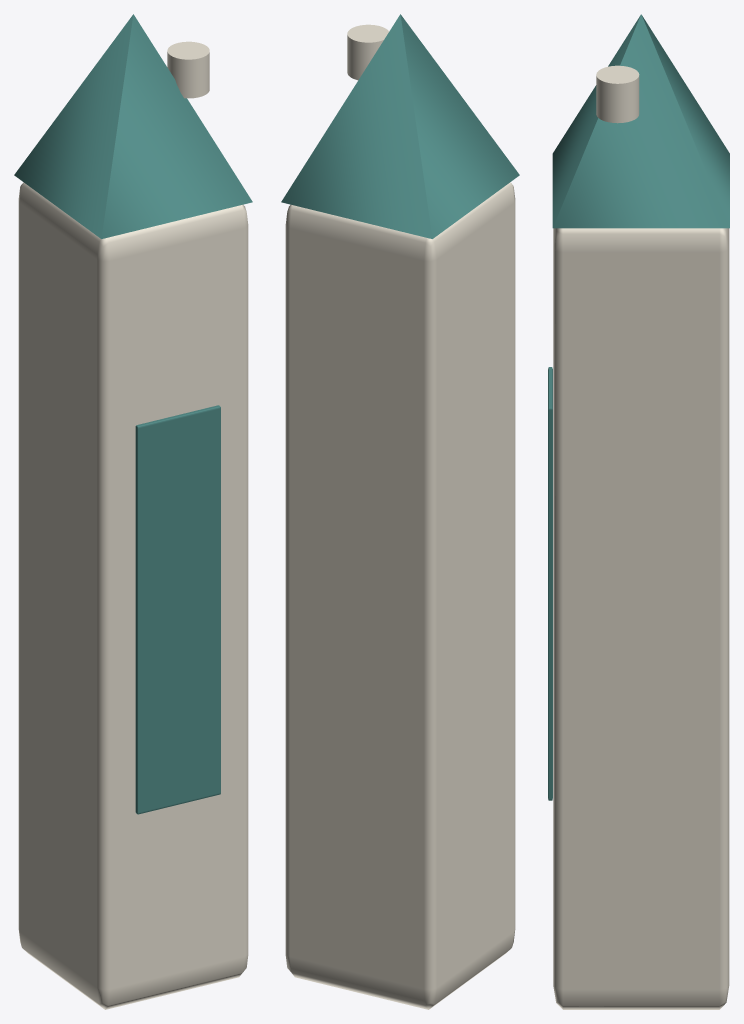
File: wp-brique-de-lait.glb
The picture shows the model from 3 angles, left to right: view 1: azimuth 30°, elevation 25°; view 2: azimuth 150°, elevation 25°; view 3: azimuth 270°, elevation 25°; orthographic projection.
Visible parts, largest first — view 1: wp-brique-de-lait; view 2: wp-brique-de-lait; view 3: wp-brique-de-lait.
Part boxes in pixels (x1=…): wp-brique-de-lait: x1=14, y1=14, x2=252, y2=1009; wp-brique-de-lait: x1=281, y1=14, x2=519, y2=1009; wp-brique-de-lait: x1=548, y1=14, x2=729, y2=1009.
Bounding box in the file's own units: 0.04 × 0.24 × 0.041.
